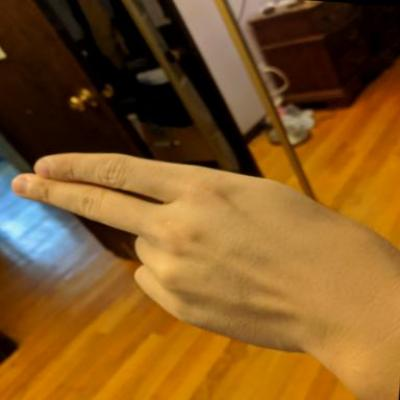hand: (0, 140, 380, 364)
